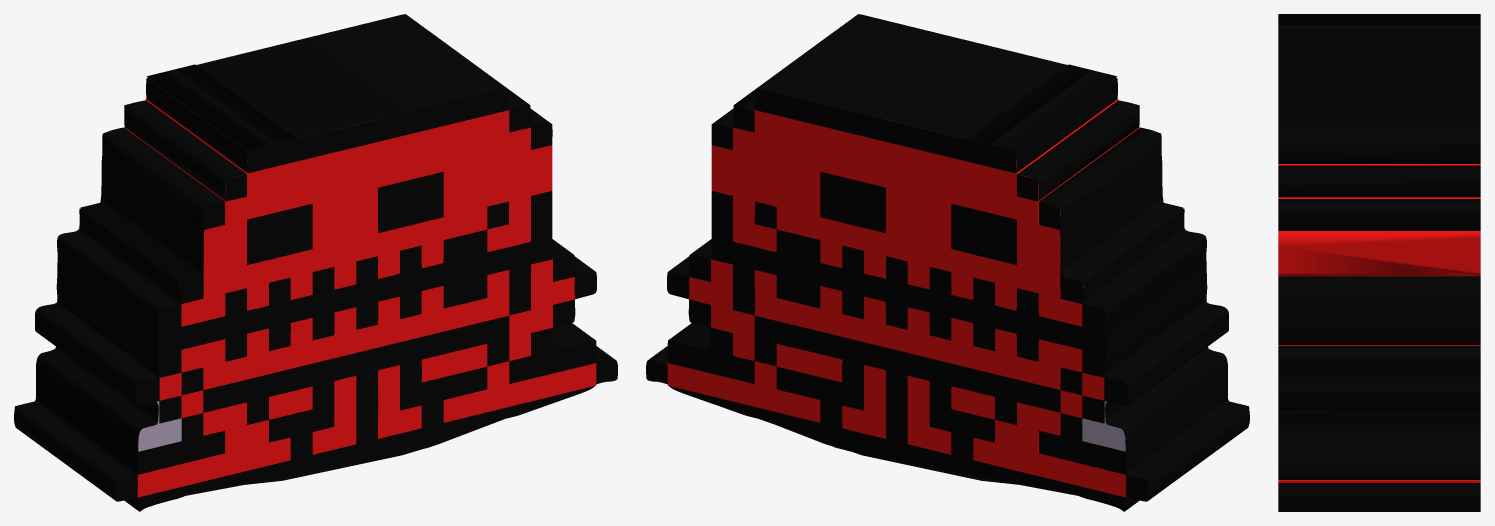
Rendered from Toadz_6368.glb.
The picture shows the model from 3 angles, left to right: view 1: azimuth 30°, elevation 25°; view 2: azimuth 150°, elevation 25°; view 3: azimuth 270°, elevation 25°; orthographic projection.
Parts seen in each view (by area): view 1: Curve; view 2: Curve; view 3: Curve.
Part boxes in pixels (x1,y1,x2,y2): Curve: (14, 14, 617, 511); Curve: (646, 14, 1249, 511); Curve: (1278, 14, 1480, 511).
Bounding box in the file's own units: 2.86 × 1.86 × 1.
